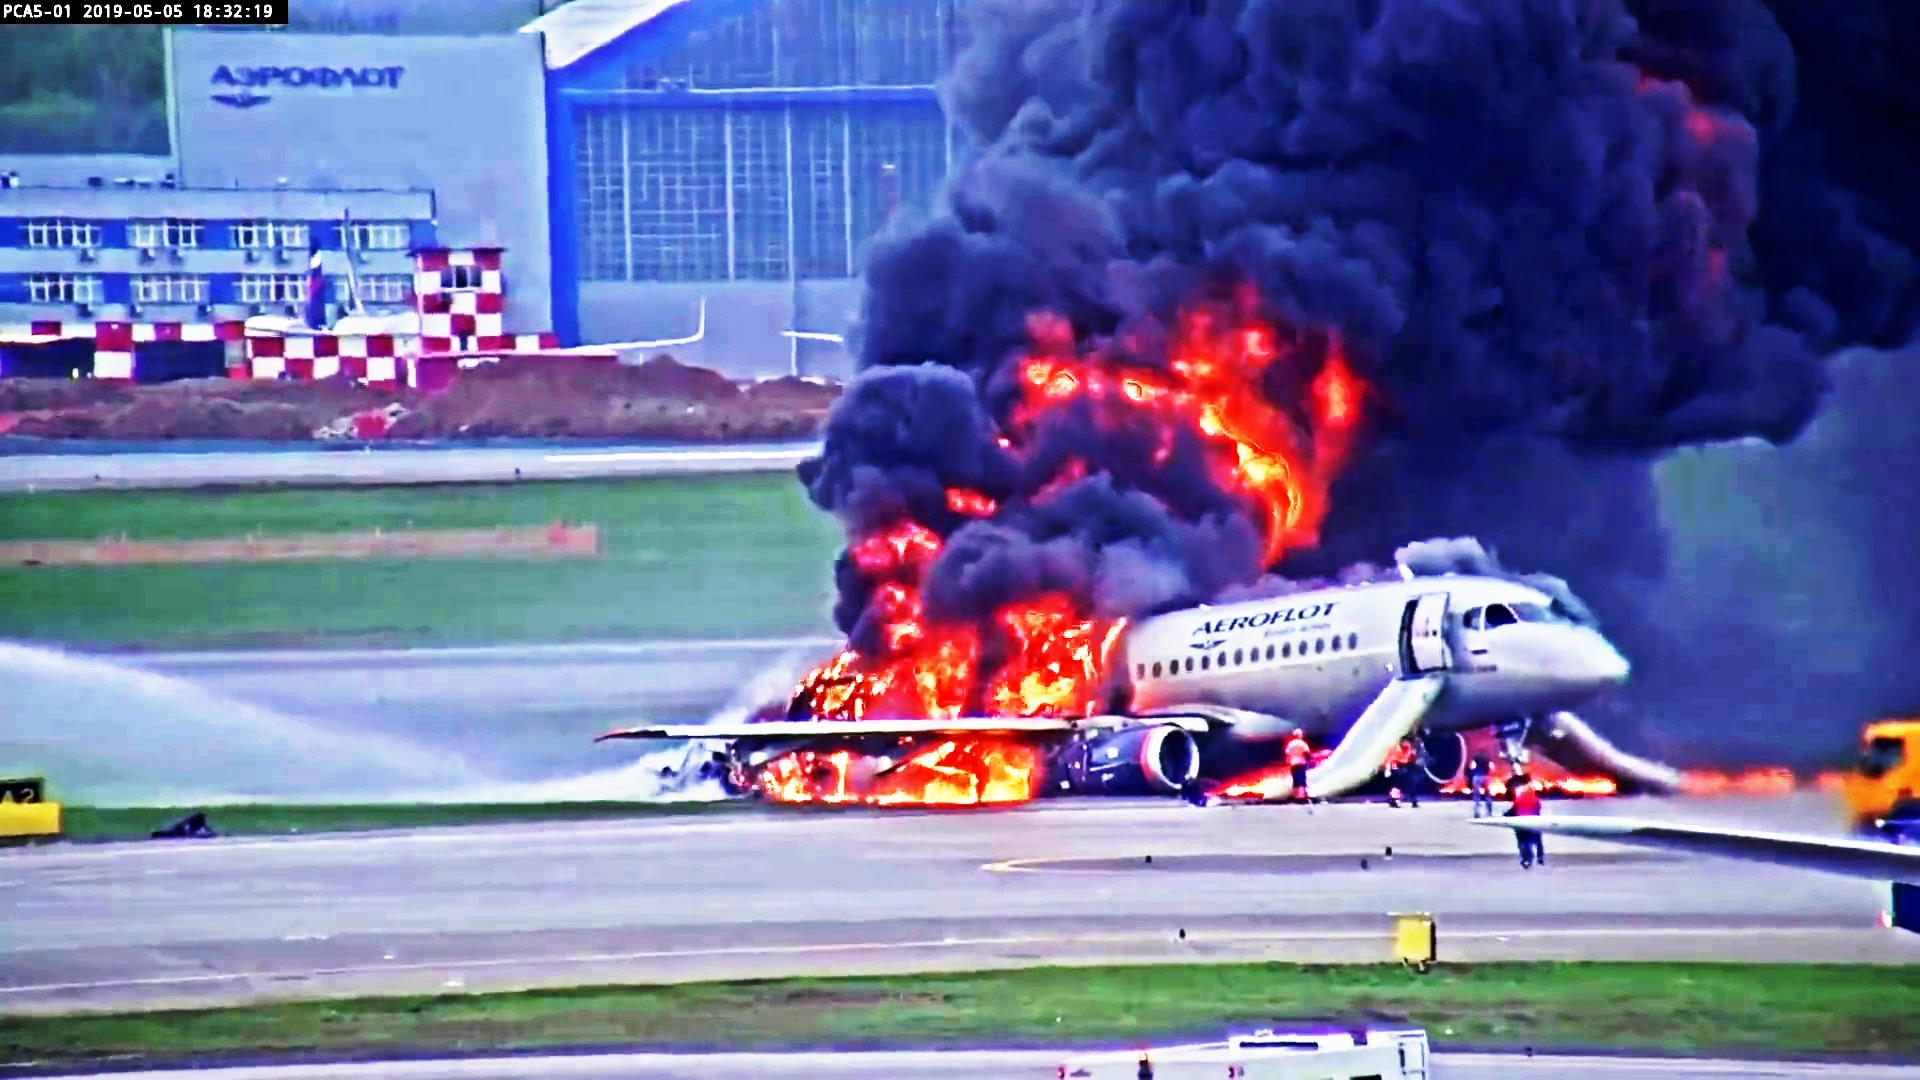fire: (909, 613, 1113, 711), (909, 744, 1065, 806)
smoke: (988, 8, 1904, 311), (815, 382, 957, 622)
